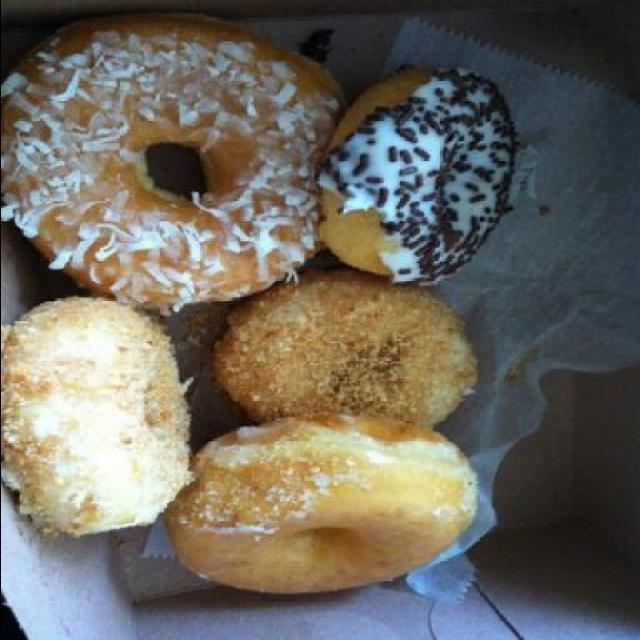Donuts: (11, 27, 518, 596)
